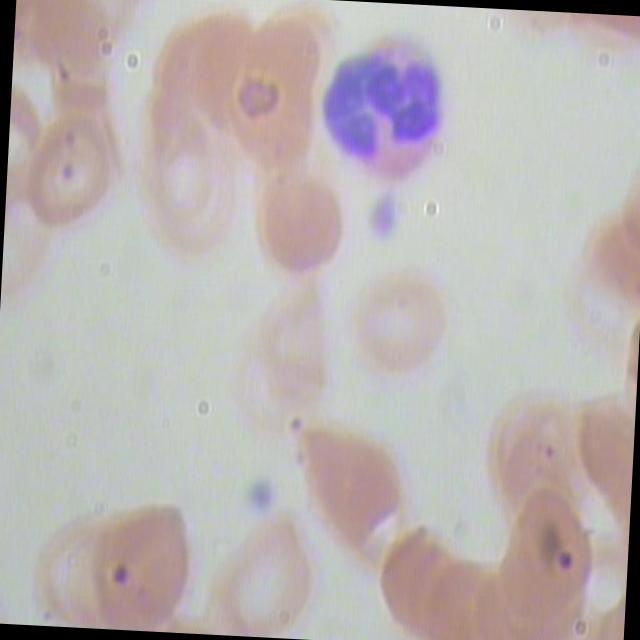Platelets: (361, 183, 407, 246), (238, 462, 284, 524)
RBC: (286, 424, 408, 566), (483, 481, 604, 619), (86, 488, 200, 634), (218, 18, 328, 152), (233, 278, 344, 410), (10, 115, 120, 248), (482, 392, 592, 524), (342, 270, 458, 386), (243, 172, 359, 288), (214, 519, 324, 640), (150, 151, 242, 265), (146, 20, 225, 126), (25, 0, 111, 90), (426, 558, 499, 640)
WBC: (308, 25, 466, 186)
